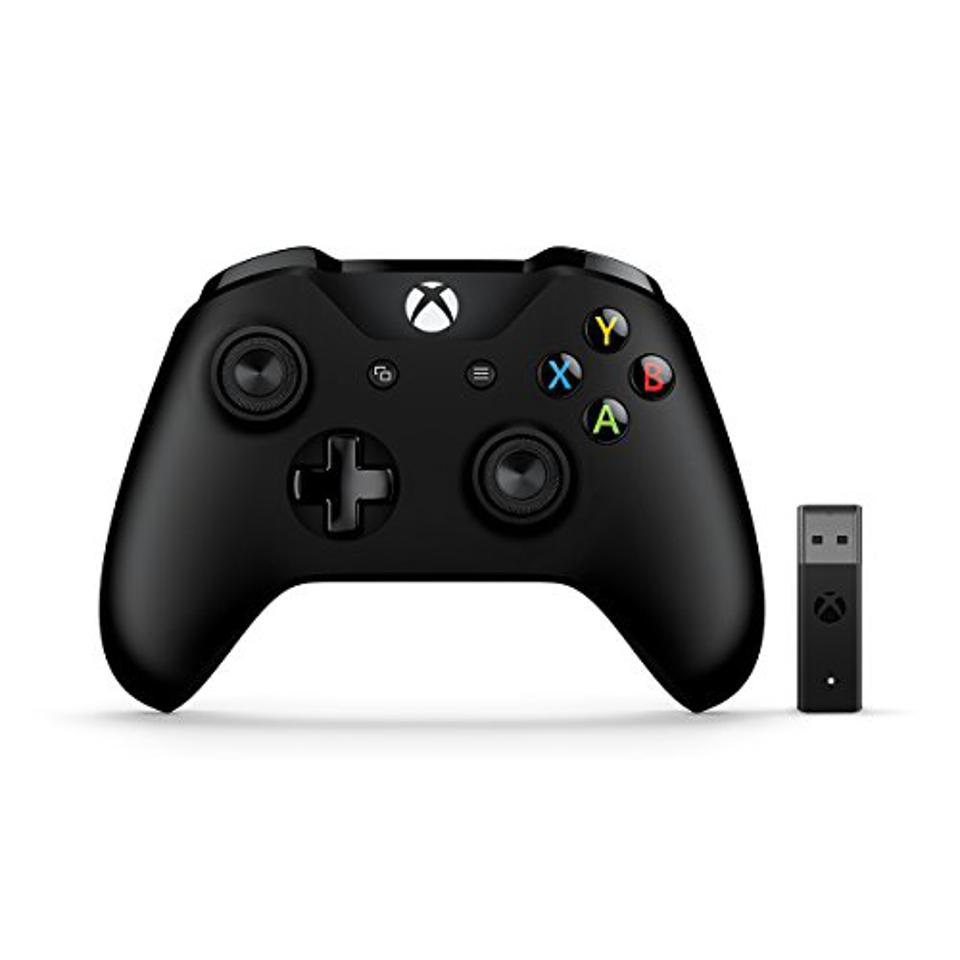controller: (99, 244, 767, 716)
